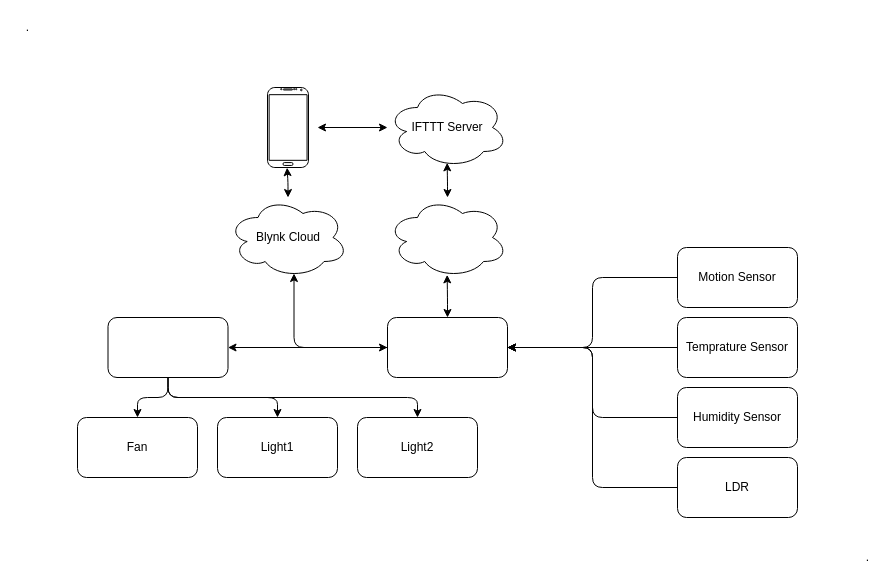
The diagram is 894 pixels wide and 584 high, and some of its shapes have lost their labels. Each missing label, with the centre of its shape:
Adafruit IO Server: [447,237]
NodeMCU: [447,347]
Relay Module: [167,347]
